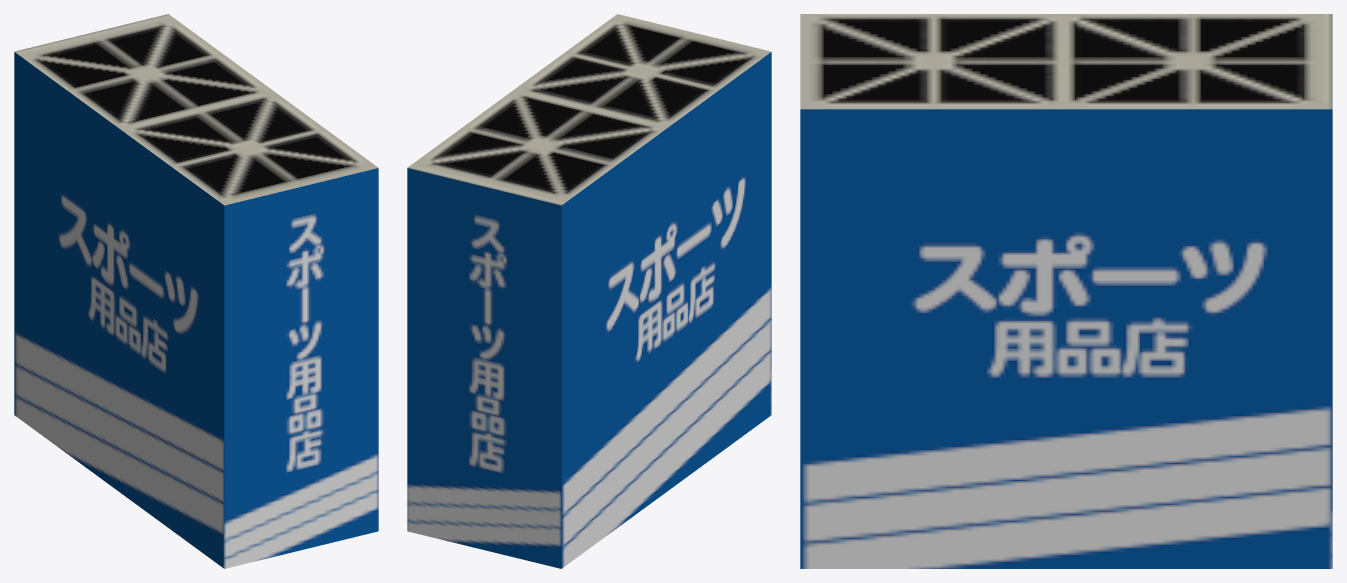
The model's file is Prop_Signbox_F.fbx.
3 views of the same model, side by side, from view 1: azimuth 30°, elevation 25°; view 2: azimuth 150°, elevation 25°; view 3: azimuth 270°, elevation 25° (orthographic). The views are drawn at different scales.
Visible parts, largest first — view 1: Prop_Signbox_F; view 2: Prop_Signbox_F; view 3: Prop_Signbox_F.
Boxes of the visible parts, x1,y1,x2,y2 form: Prop_Signbox_F: (14,14,378,568); Prop_Signbox_F: (407,14,771,568); Prop_Signbox_F: (800,14,1332,568).
Size of the model in its own units: 500 by 1125 by 1180.
